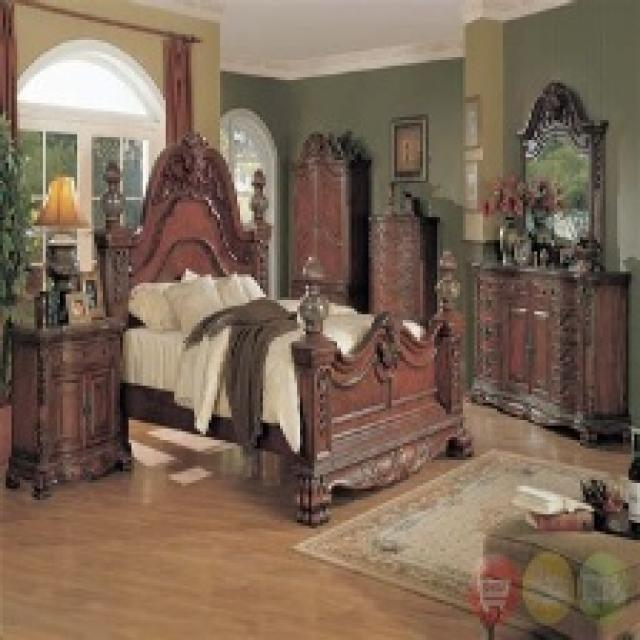Bed: (94, 128, 472, 526)
